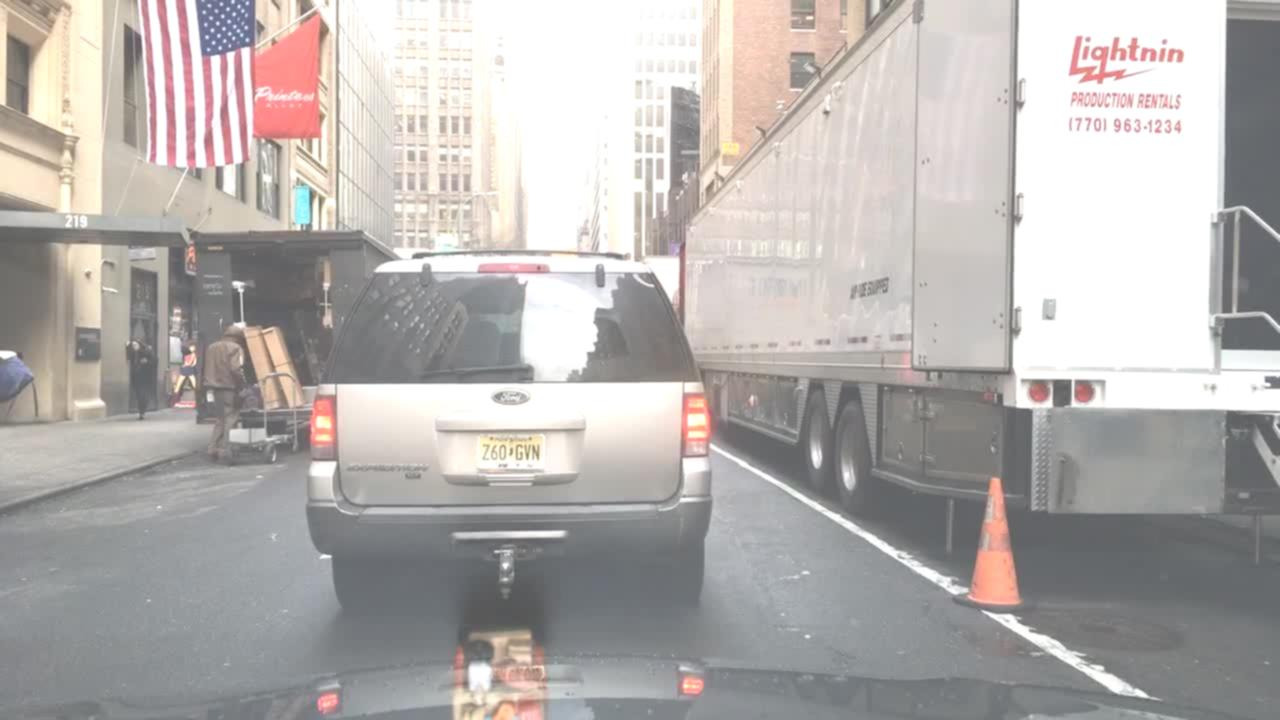ford: (486, 384, 545, 415)
